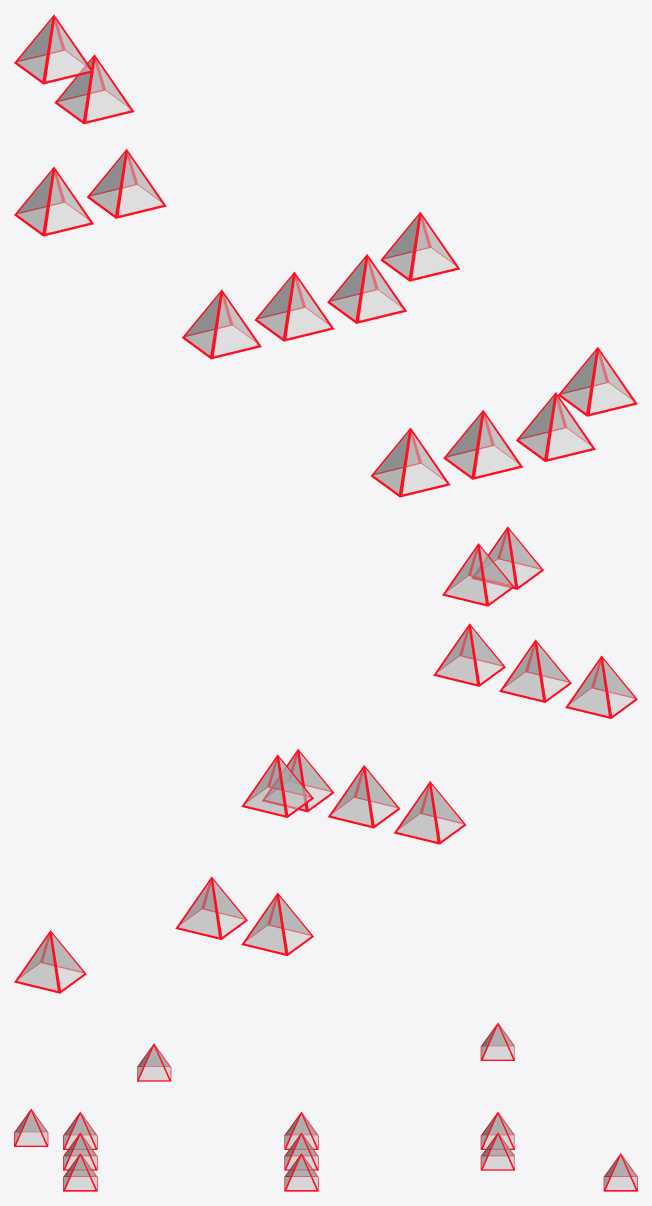
File: (3)E Spike.fbx
The picture shows the model from 3 angles, top to bottom: view 1: azimuth 30°, elevation 25°; view 2: azimuth 150°, elevation 25°; view 3: azimuth 270°, elevation 25°; orthographic projection. The views are drawn at different scales.
Visible parts, largest first — view 1: Spike..001, Spike..002, Spike..003, Spike..007, Spike..009, Spike..012, Spike..005, Spike..010, Spike..006, Spike..008, Spike..004, Spike..011; view 2: Spike..002, Spike..004, Spike..005, Spike..006, Spike..009, Spike..003, Spike..007, Spike..011, Spike..010, Spike..012, Spike..008, Spike..001; view 3: Spike..008, Spike..004, Spike..011, Spike..005, Spike..010, Spike..012, Spike..001, Spike..002, Spike..009, Spike..006, Spike..003, Spike..007.
Part boxes in pixels (box(x1,y1,x2,y2)): Spike..001: box(558, 347, 637, 416); Spike..002: box(371, 427, 450, 497); Spike..003: box(443, 410, 523, 479); Spike..007: box(254, 272, 334, 341); Spike..009: box(14, 167, 93, 236); Spike..012: box(14, 14, 93, 84); Spike..005: box(380, 212, 459, 281); Spike..010: box(87, 149, 166, 218); Spike..006: box(182, 289, 261, 359); Spike..008: box(327, 254, 406, 323); Spike..004: box(516, 392, 595, 461); Spike..011: box(54, 54, 134, 124); Spike..002: box(565, 655, 637, 718); Spike..004: box(433, 623, 505, 686); Spike..005: box(442, 543, 514, 606); Spike..006: box(394, 781, 466, 844); Spike..009: box(241, 892, 313, 955); Spike..003: box(499, 639, 571, 702); Spike..007: box(328, 765, 399, 828); Spike..011: box(14, 930, 86, 993); Spike..010: box(175, 876, 247, 939); Spike..012: box(241, 754, 313, 817); Spike..008: box(262, 749, 334, 812); Spike..001: box(471, 526, 543, 589); Spike..008: box(284, 1153, 318, 1191); Spike..004: box(63, 1153, 97, 1191); Spike..011: box(603, 1153, 637, 1191); Spike..005: box(137, 1043, 171, 1081); Spike..010: box(480, 1132, 514, 1170); Spike..012: box(480, 1023, 514, 1060); Spike..001: box(14, 1109, 48, 1146); Spike..002: box(63, 1111, 97, 1149); Spike..009: box(480, 1112, 514, 1149); Spike..006: box(284, 1112, 318, 1149); Spike..003: box(63, 1132, 97, 1170); Spike..007: box(284, 1132, 318, 1170).
Size of the model in its own units: 540 by 540 by 2540.
